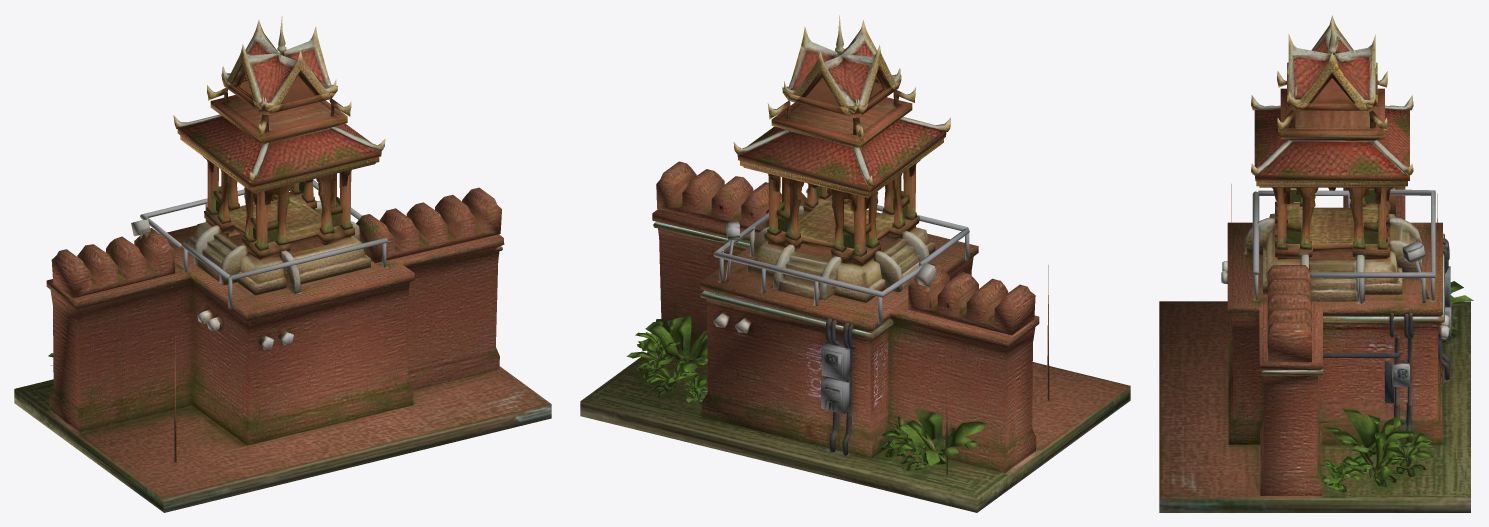
Rendered from lm_mandalay_moat.glb.
The picture shows the model from 3 angles, left to right: view 1: azimuth 30°, elevation 25°; view 2: azimuth 150°, elevation 25°; view 3: azimuth 270°, elevation 25°; orthographic projection. The views are drawn at different scales.
Visible parts, largest first — view 1: Body; view 2: Body; view 3: Body.
Boxes of the visible parts, x1,y1,x2,y2 form: Body: [14, 16, 551, 512]; Body: [580, 15, 1130, 512]; Body: [1159, 15, 1473, 512].
Bounding box in the file's own units: 16 × 15.12 × 10.68.
Materials: 2 (2 with a texture image).
